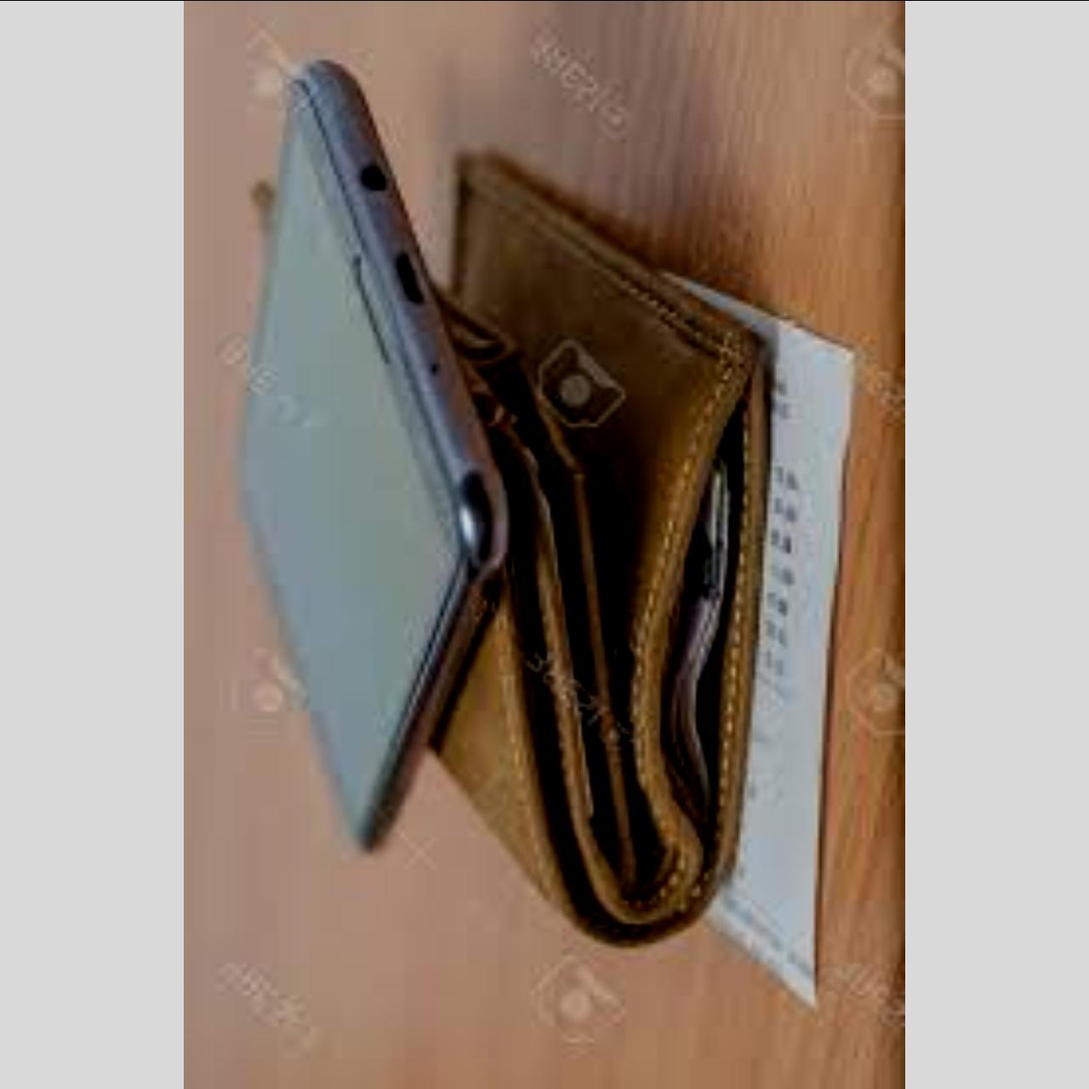wallet: (419, 117, 801, 969)
